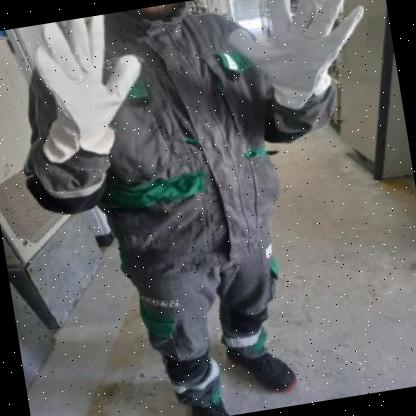bota: (223, 334, 302, 404), (187, 397, 231, 416)
